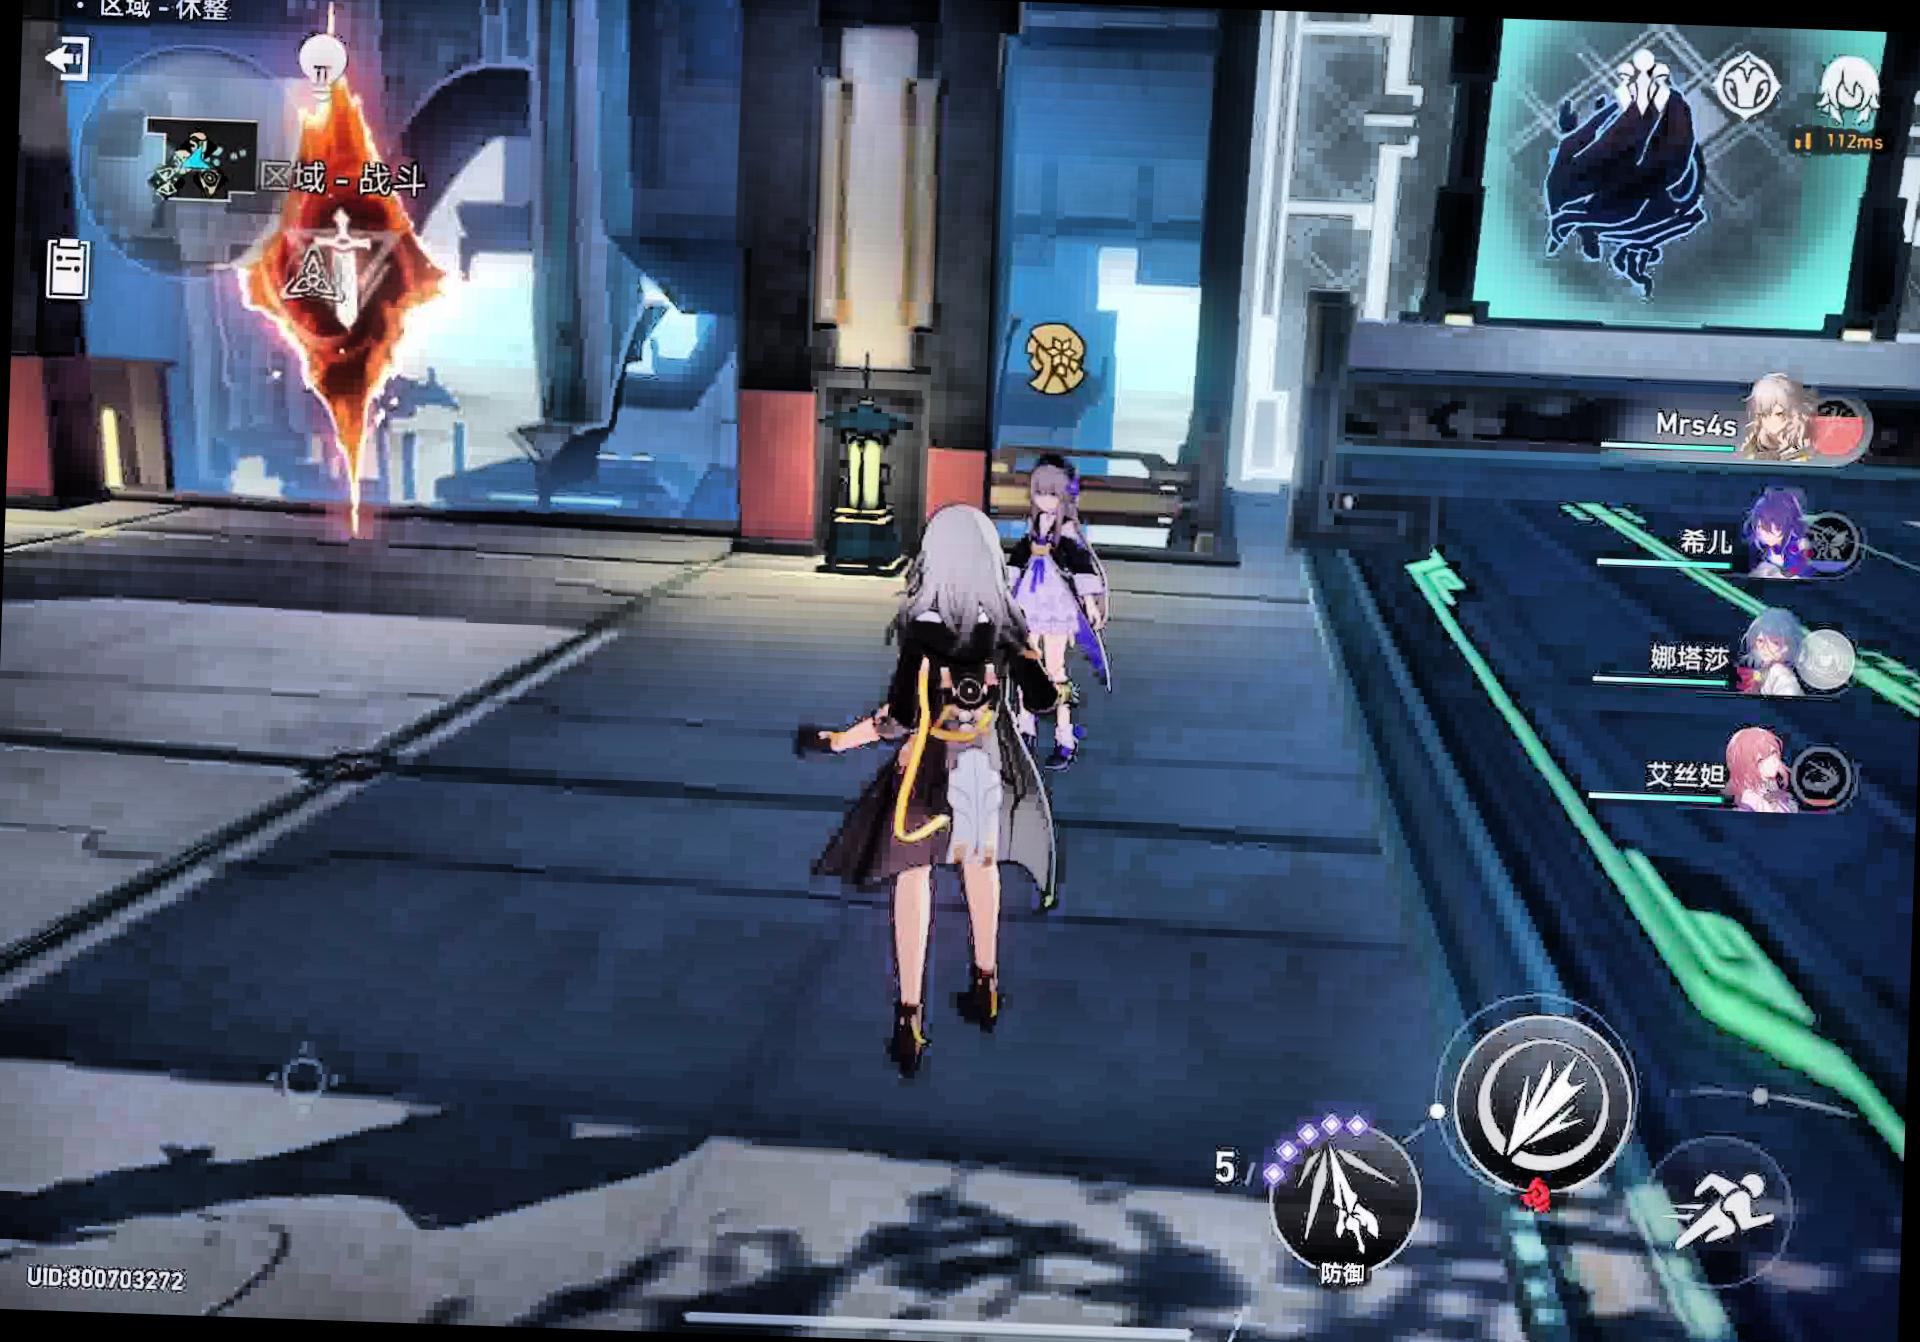BattleDoor: (194, 76, 477, 548)
Self: (789, 502, 1071, 1093)
TeamMate: (985, 457, 1109, 696)
